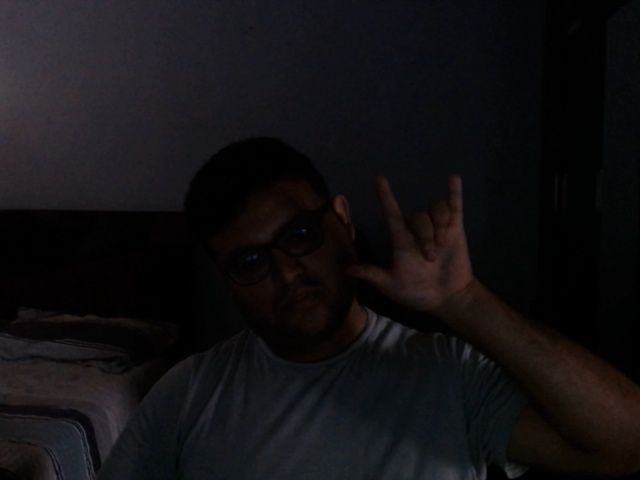I love you: (341, 172, 478, 330)
